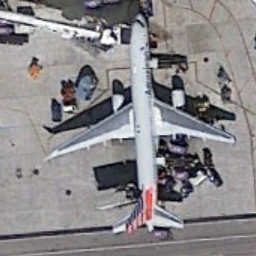Airplane: (39, 7, 241, 240)
